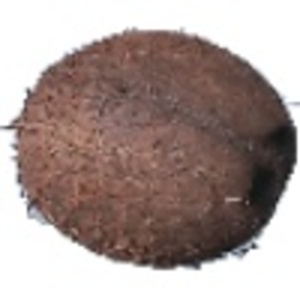coco: (6, 30, 300, 270)
